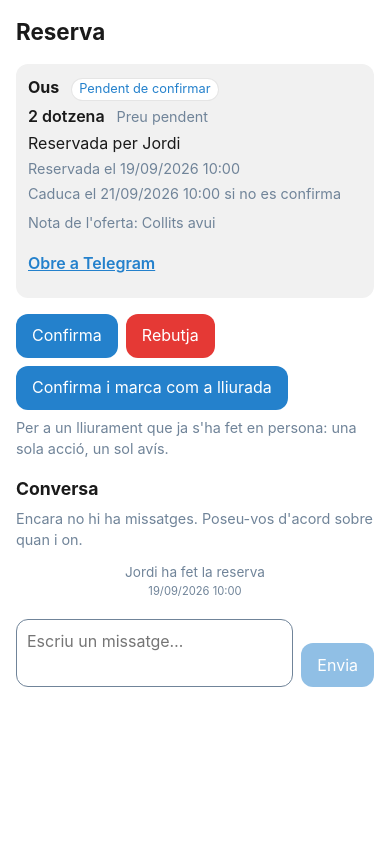
Test case: Reservation detail (PRD US-4.2–4.4, ADR-0014) › asks before rejecting, takes an optional reason, and sends it trimmed
Expected: the element with test id "reservation-detail" is shown, [16,64,374,298]
Click the button "Rebutja" at (170, 336), box [126,314,215,358]
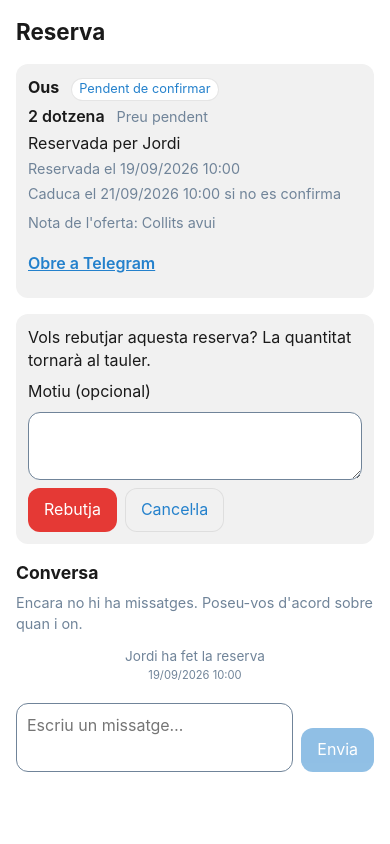
Now the element with test id "action-confirm" shows "Vols rebutjar aquesta reserva?", box [28,327,351,370]
Type "  Ja no en tinc  " into the text box labelled "Motiu (opcional)" at (195, 446), box [28,412,362,480]
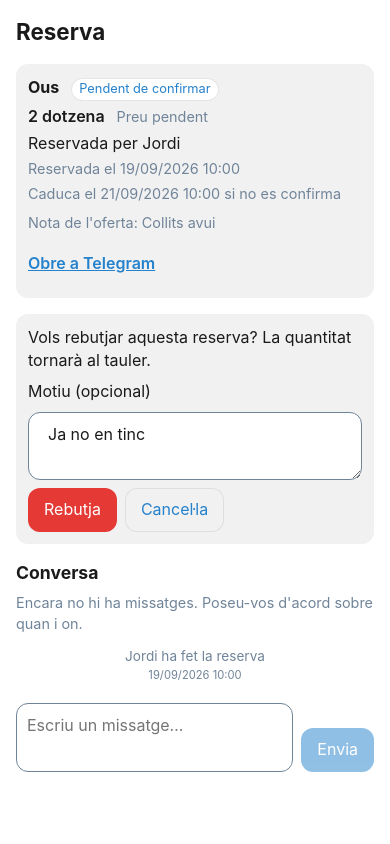
Click the button "Rebutja" at (72, 510), box [28,488,117,532]
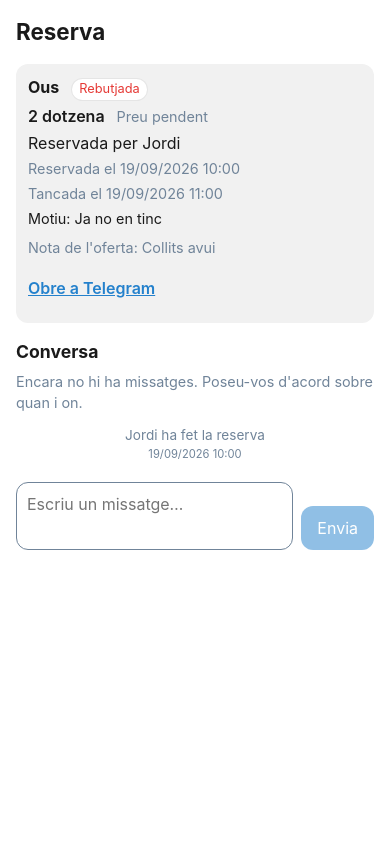
Now the element with test id "reservation-detail" shows "Motiu: Ja no en tinc", box [28,210,162,227]
